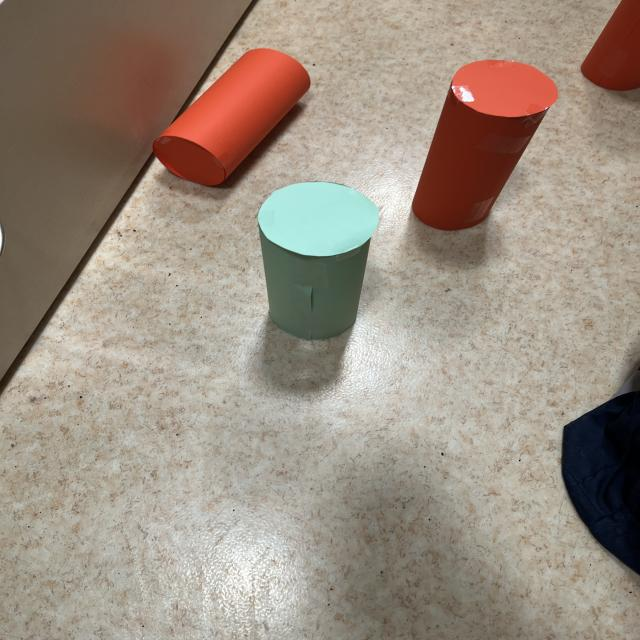meta: (258, 182, 379, 340)
przeszkoda: (412, 60, 557, 230), (153, 48, 310, 185)
